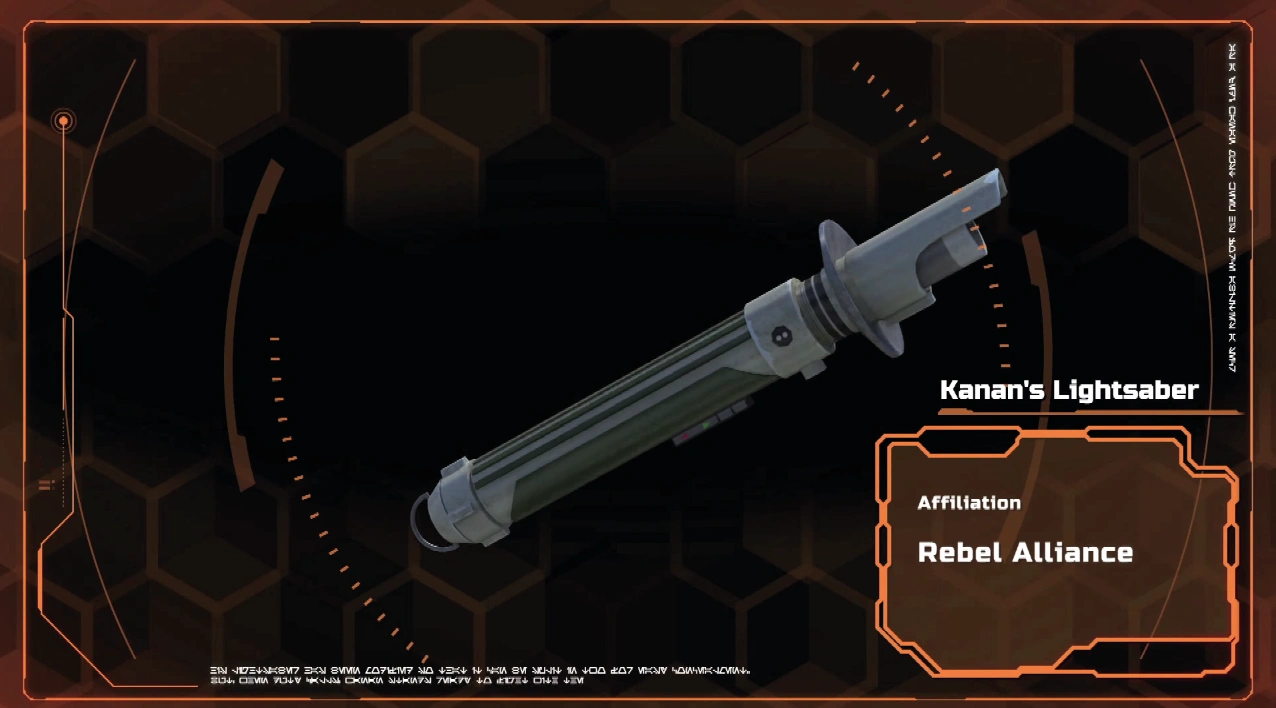Dalek: (403, 161, 1019, 559)
